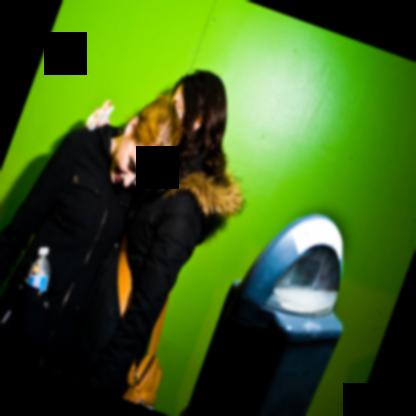handbag: (115, 243, 170, 410)
